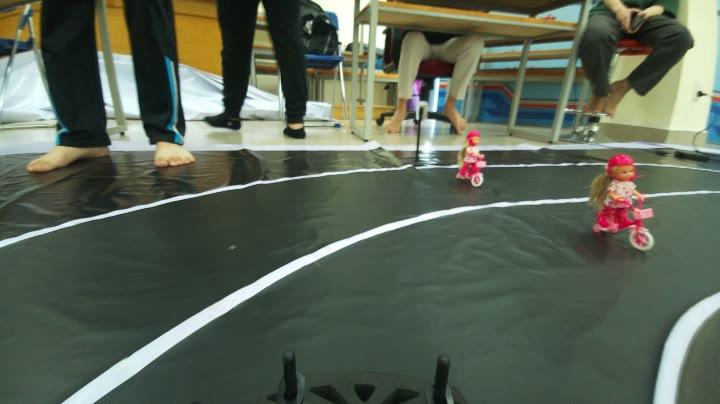pedestrian: (594, 146, 652, 252), (455, 126, 492, 192)
